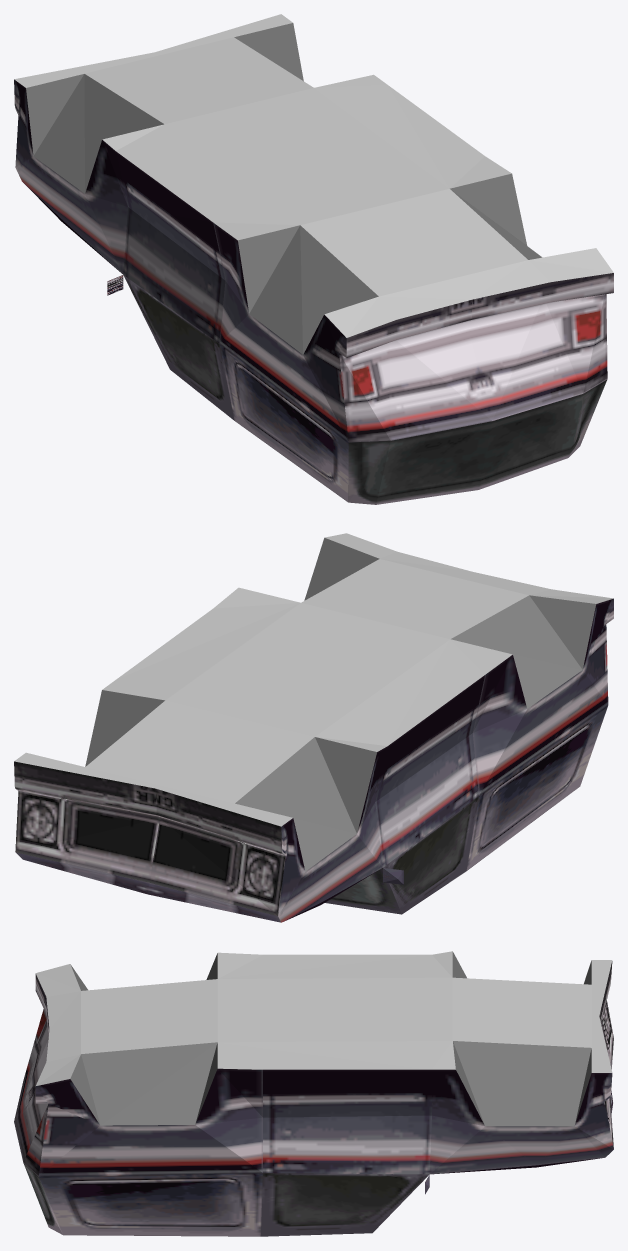
File: VEGAS_model11_damaged.obj
3 renders of one model, top to bottom at view 1: azimuth 30°, elevation 25°; view 2: azimuth 150°, elevation 25°; view 3: azimuth 270°, elevation 25°, orthographic. The views are drawn at different scales.
Visible parts, largest first — view 1: VEGAS_model11_damaged; view 2: VEGAS_model11_damaged; view 3: VEGAS_model11_damaged.
Part boxes in pixels (<box>): VEGAS_model11_damaged: <box>14,14,613,504</box>; VEGAS_model11_damaged: <box>14,533,613,922</box>; VEGAS_model11_damaged: <box>14,951,613,1236</box>.
Size of the model in its own units: 384 by 272 by 778.
